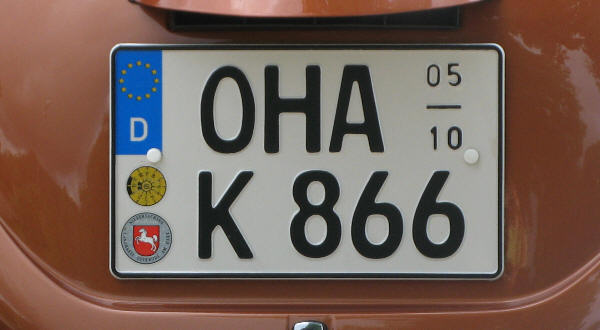license_plate: (107, 42, 505, 279)
